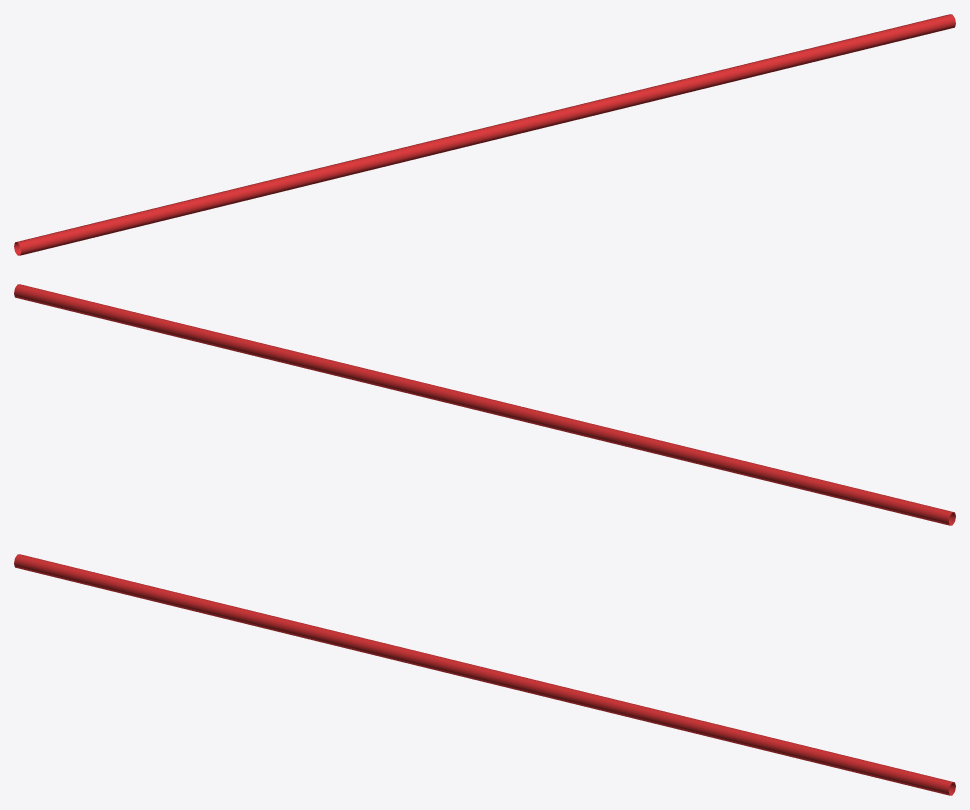
Rendered from lazeholder_001.fbx.
3 renders of one model, top to bottom at view 1: azimuth 30°, elevation 25°; view 2: azimuth 150°, elevation 25°; view 3: azimuth 330°, elevation 25°, orthographic.
Parts seen in each view (by area): view 1: lazeholder_001; view 2: lazeholder_001; view 3: lazeholder_001.
Part boxes in pixels (bbox=[...]): lazeholder_001: bbox=[14, 14, 955, 255]; lazeholder_001: bbox=[14, 284, 955, 525]; lazeholder_001: bbox=[14, 554, 955, 795].
Bounding box in the file's own units: 3160 × 42.23 × 42.23.
